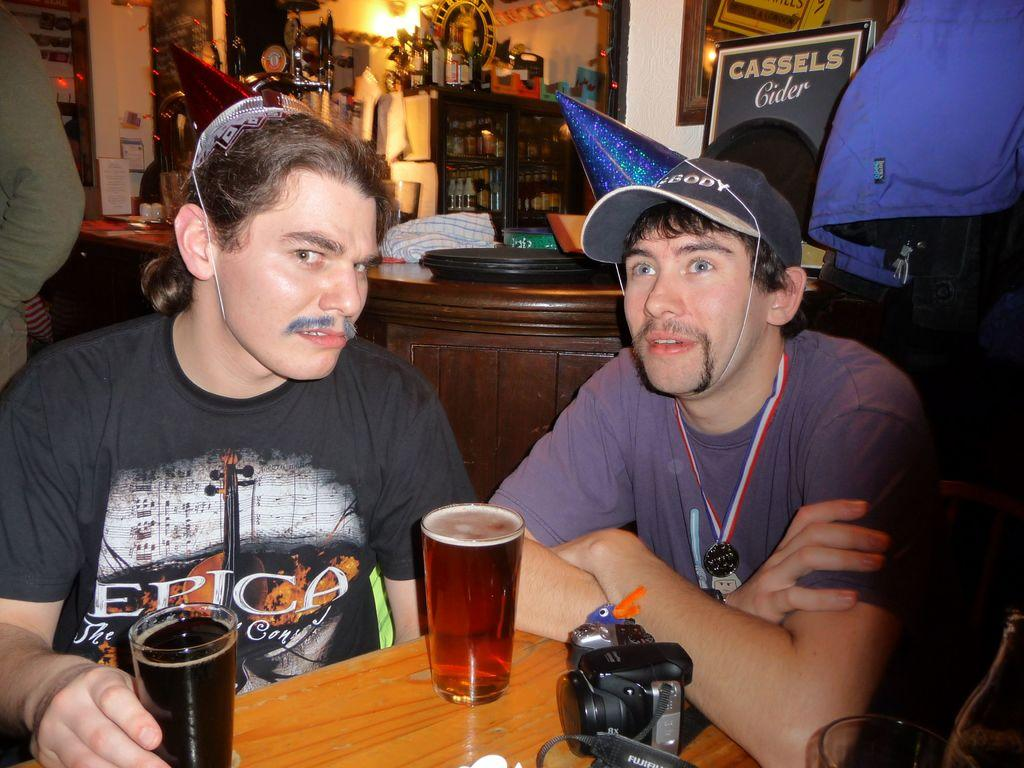Hat: (584, 159, 802, 268)
